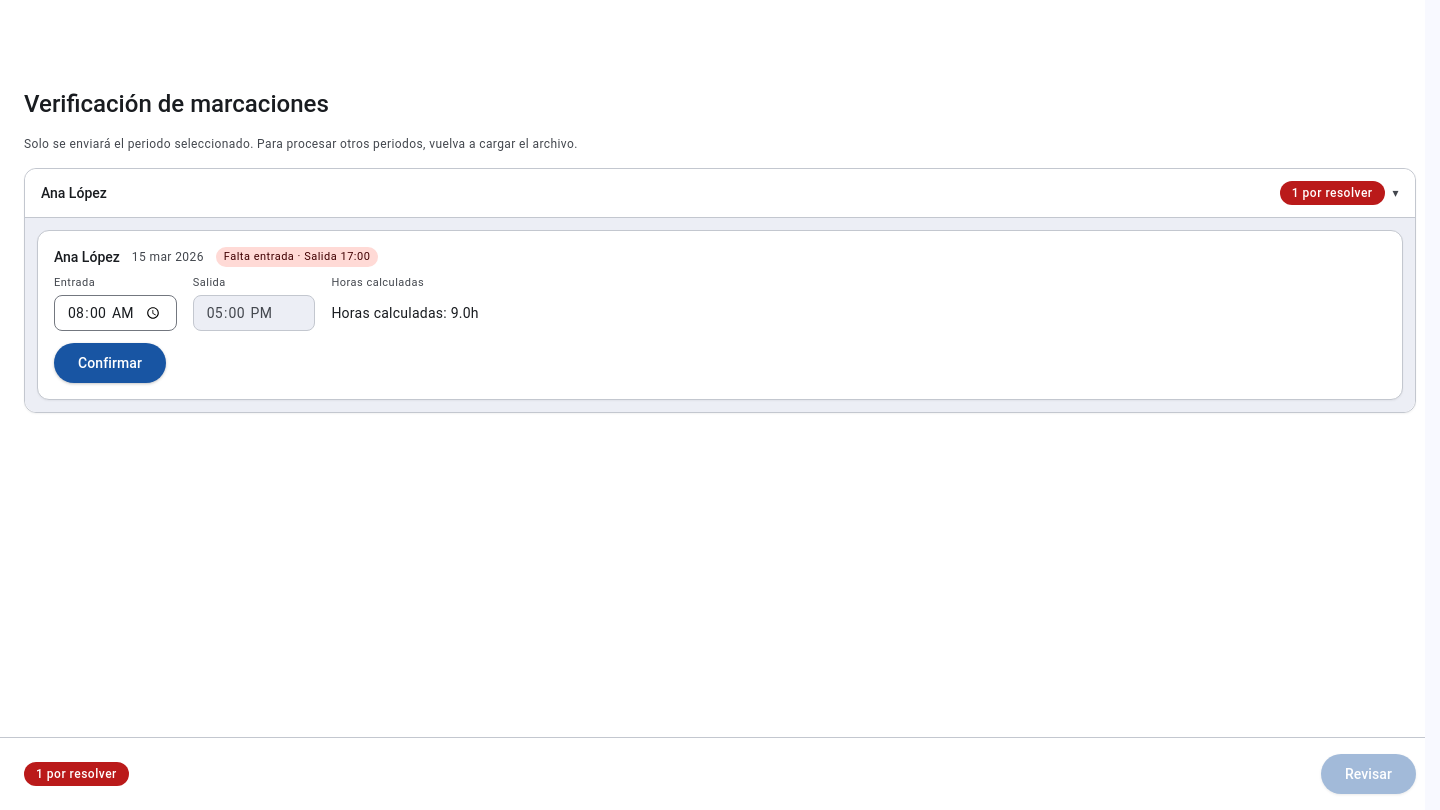
it: VerificationScreen time inputs › collapses the employee group once its only session is confirmed
Step 1. Click the button "Confirmar" → [110, 363], box [54,343,166,383]
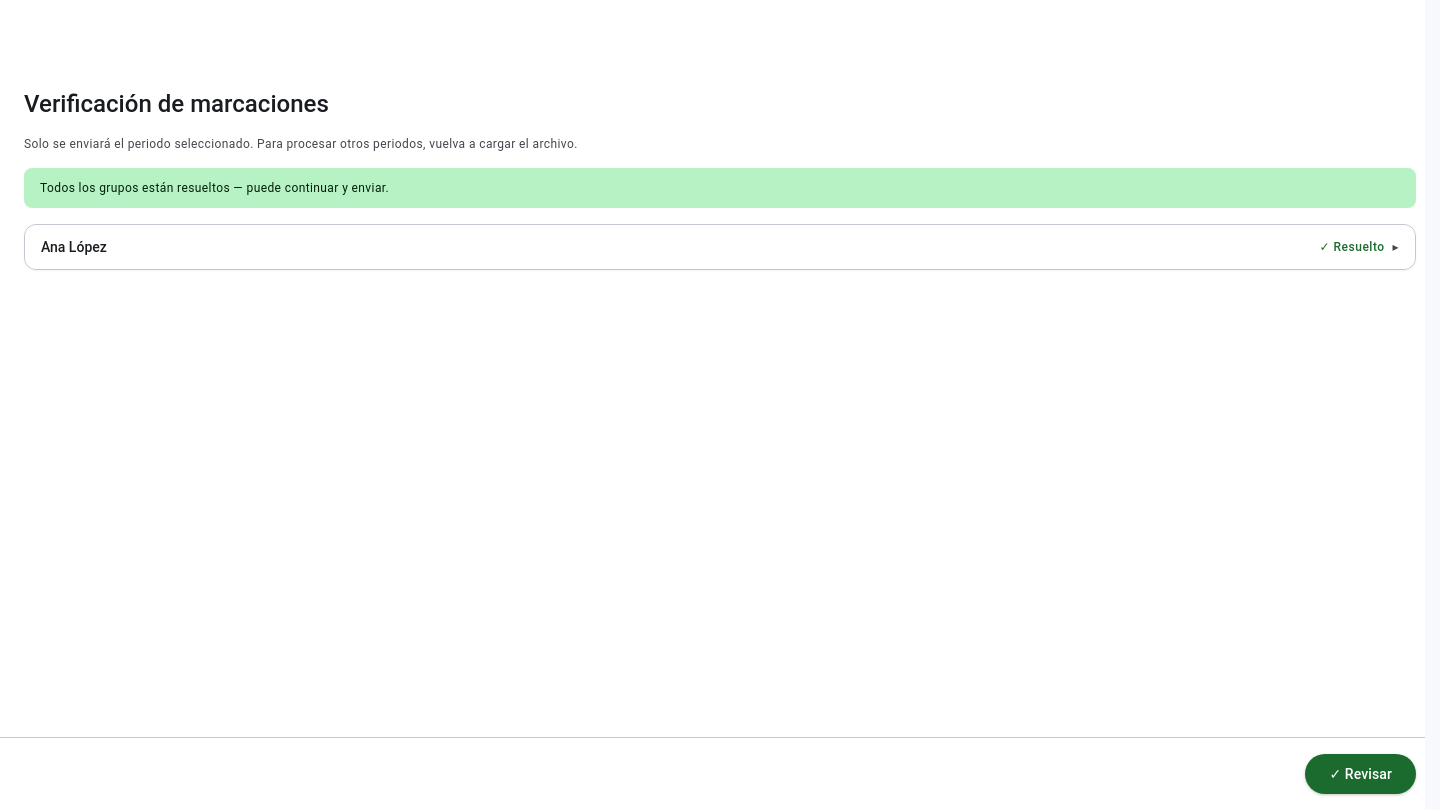
Result: the text "✓ Resuelto" is shown at [1320,239,1384,255]
